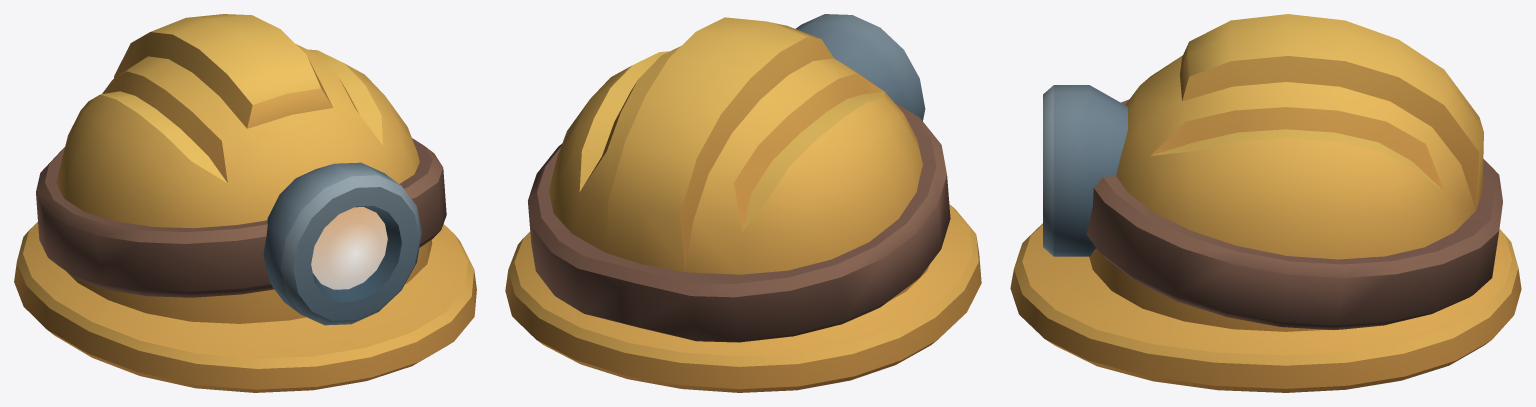
File: Mining_Helmet.glb
3 views of the same model, side by side, from view 1: azimuth 30°, elevation 25°; view 2: azimuth 150°, elevation 25°; view 3: azimuth 270°, elevation 25° (orthographic). The views are drawn at different scales.
Visible parts, largest first — view 1: mining_helmet; view 2: mining_helmet; view 3: mining_helmet.
Boxes of the visible parts, box(x1,y1,x2,y2) form: mining_helmet: box(14, 14, 476, 392); mining_helmet: box(505, 14, 981, 392); mining_helmet: box(1010, 14, 1521, 392).
Size of the model in its own units: 1.21 by 0.7615 by 1.31.
Materials: 2 (2 with a texture image).
